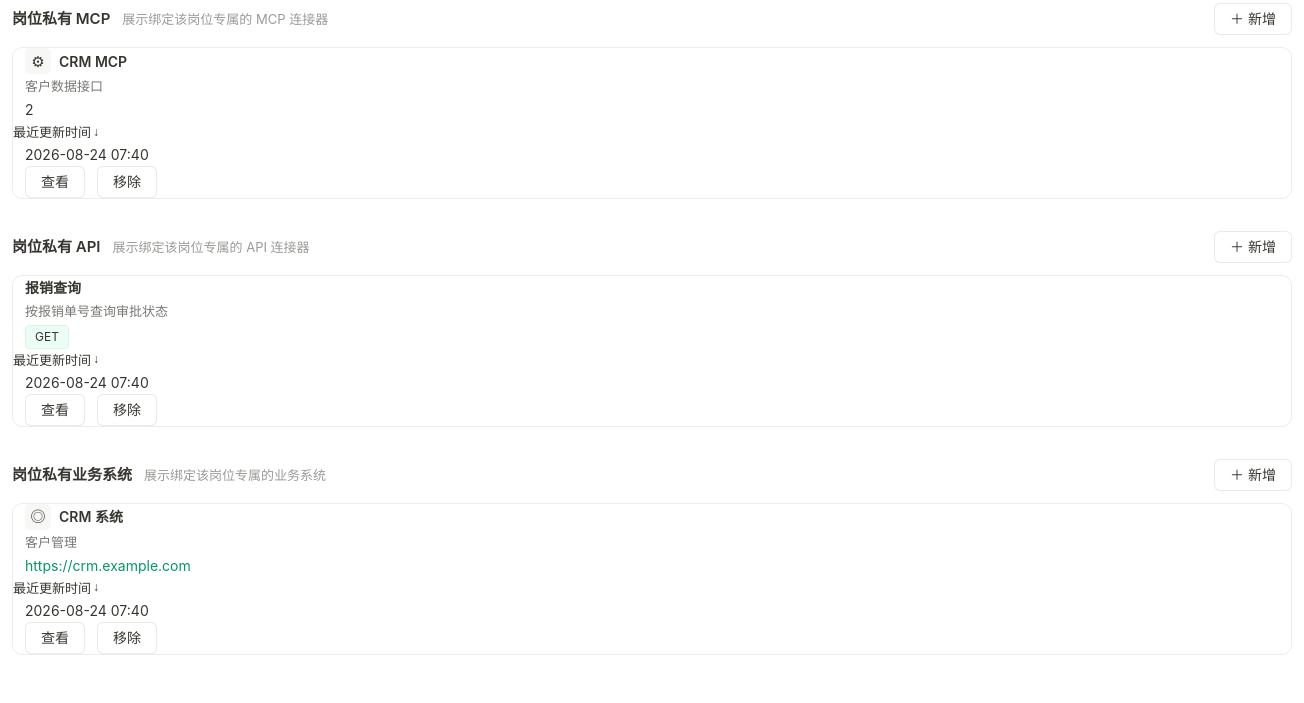
连接器页签 · 绑定弹窗候选范围（md 岗位 §8.1–§8.3；待办 yuepu#24③） › 岗位私有 API 的【＋ 新增】只向接口要「岗位私有 + 已发布」的候选；挂载时加载已绑定行不带该条件（软引用，停用后仍展示）
The image size is (1304, 703).
Click the button "＋ 新增" in the row of "展示绑定该岗位专属的 API 连接器" at (1253, 247), box [1214,231,1292,263]
(page scrolled)
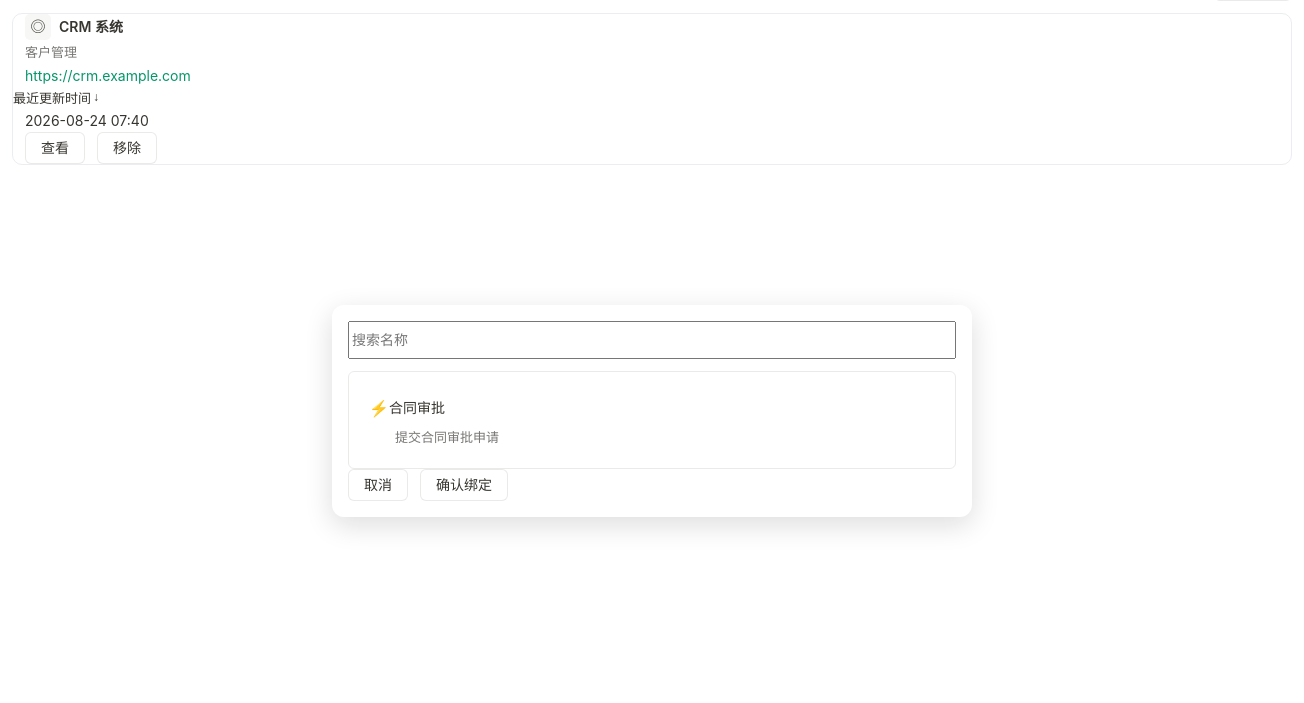
Now the element showing "提交合同审批申请 取消 确认绑定" is shown, box [332,305,972,517]
